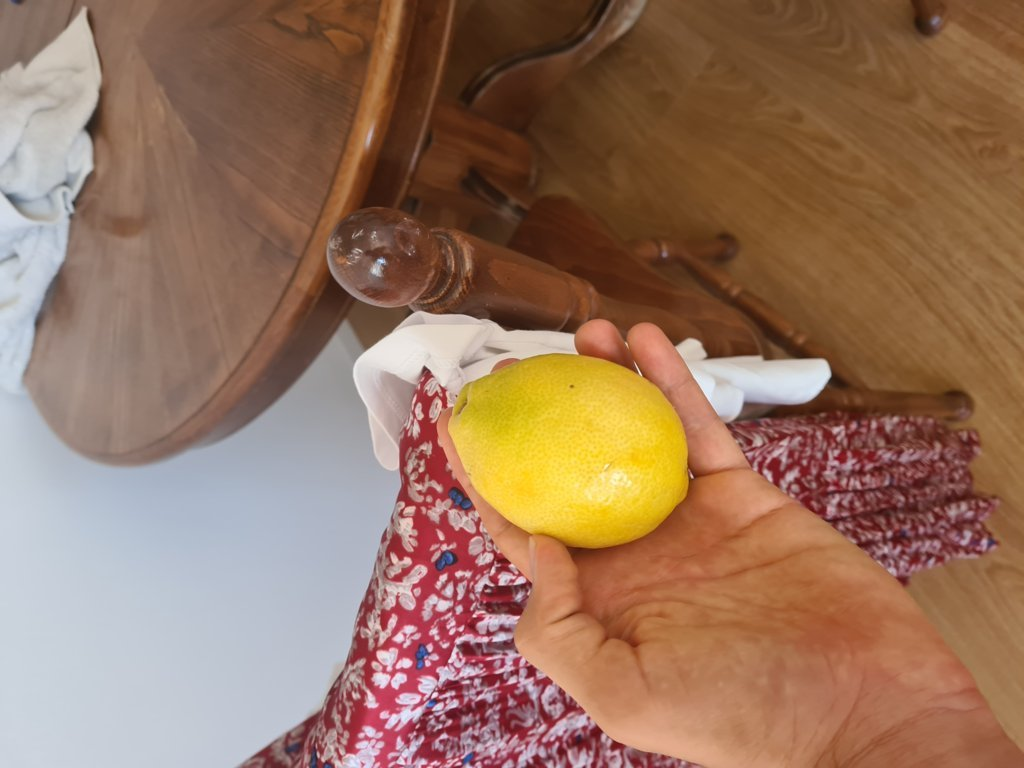lemon: (441, 353, 691, 541)
